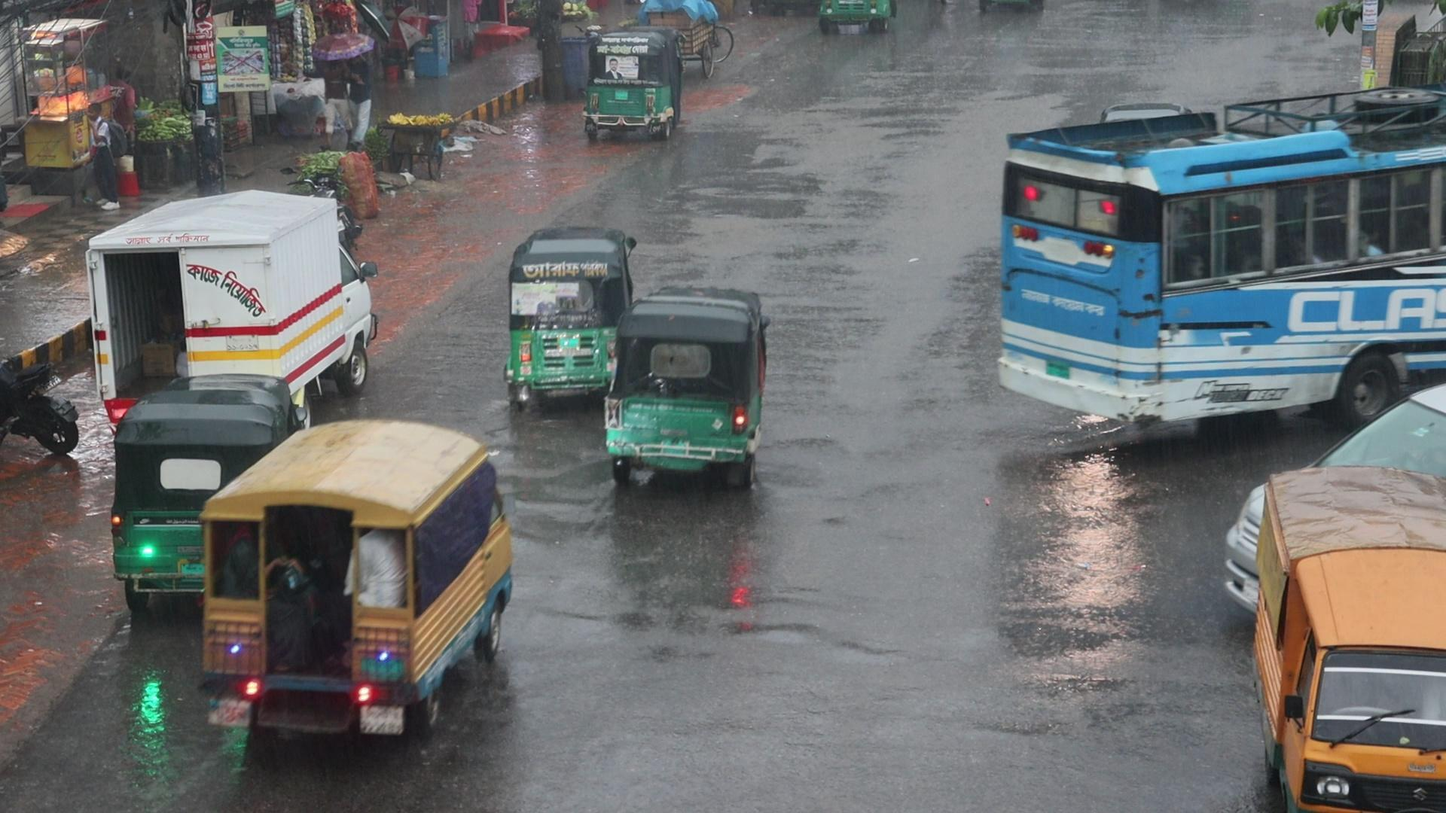Bus: (993, 82, 1446, 424)
Truck: (197, 417, 514, 743), (1257, 463, 1446, 811)
